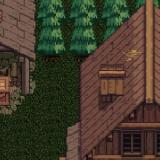Obstacle: (37, 0, 160, 160), (0, 0, 37, 118)
